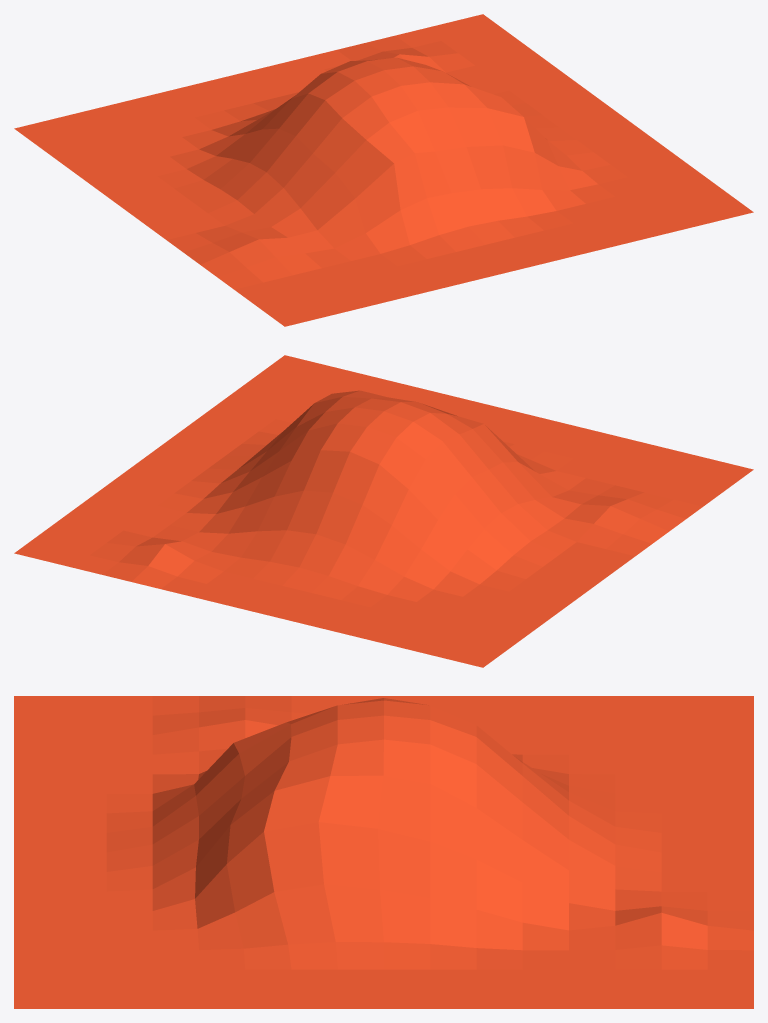
The model's file is tiles1.obj.
3 renders of one model, top to bottom at view 1: azimuth 30°, elevation 25°; view 2: azimuth 150°, elevation 25°; view 3: azimuth 270°, elevation 25°, orthographic. The views are drawn at different scales.
Visible parts, largest first — view 1: Tile1_Plane.004; view 2: Tile1_Plane.004; view 3: Tile1_Plane.004.
Part boxes in pixels (bbox=[...]): Tile1_Plane.004: bbox=[14, 14, 753, 326]; Tile1_Plane.004: bbox=[14, 355, 753, 667]; Tile1_Plane.004: bbox=[14, 696, 753, 1008].
Size of the model in its own units: 30 by 6.12 by 30.
Materials: 1 (1 with a texture image).
